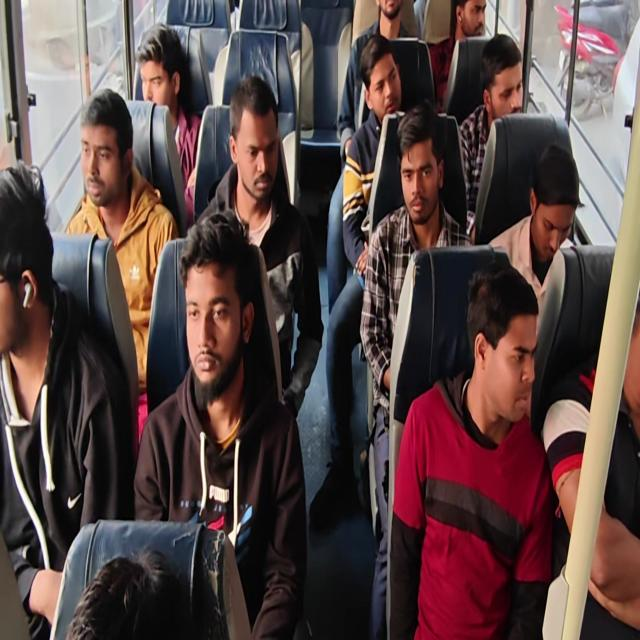person: (1, 1, 638, 638), (133, 209, 308, 638), (387, 258, 554, 638), (0, 160, 131, 638), (359, 101, 474, 637), (308, 33, 406, 530), (194, 75, 324, 419), (64, 87, 179, 444), (540, 288, 640, 638), (488, 142, 582, 336), (342, 34, 404, 280), (458, 33, 524, 240), (337, 0, 419, 165), (135, 22, 201, 226), (65, 546, 189, 639), (422, 0, 487, 112)
